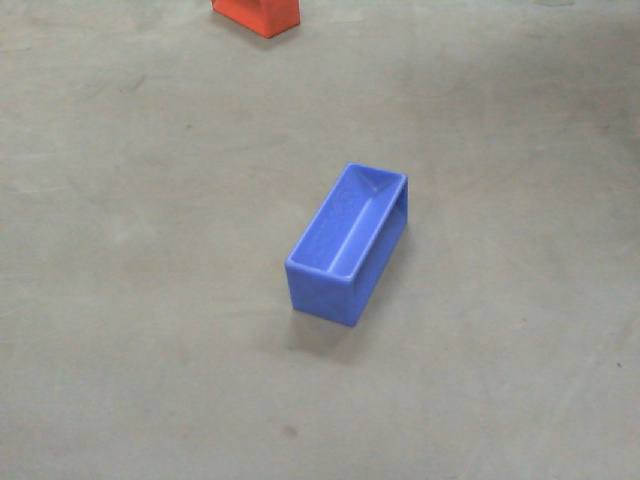BlueSample: (283, 161, 411, 327)
RedSample: (210, 1, 304, 39)
